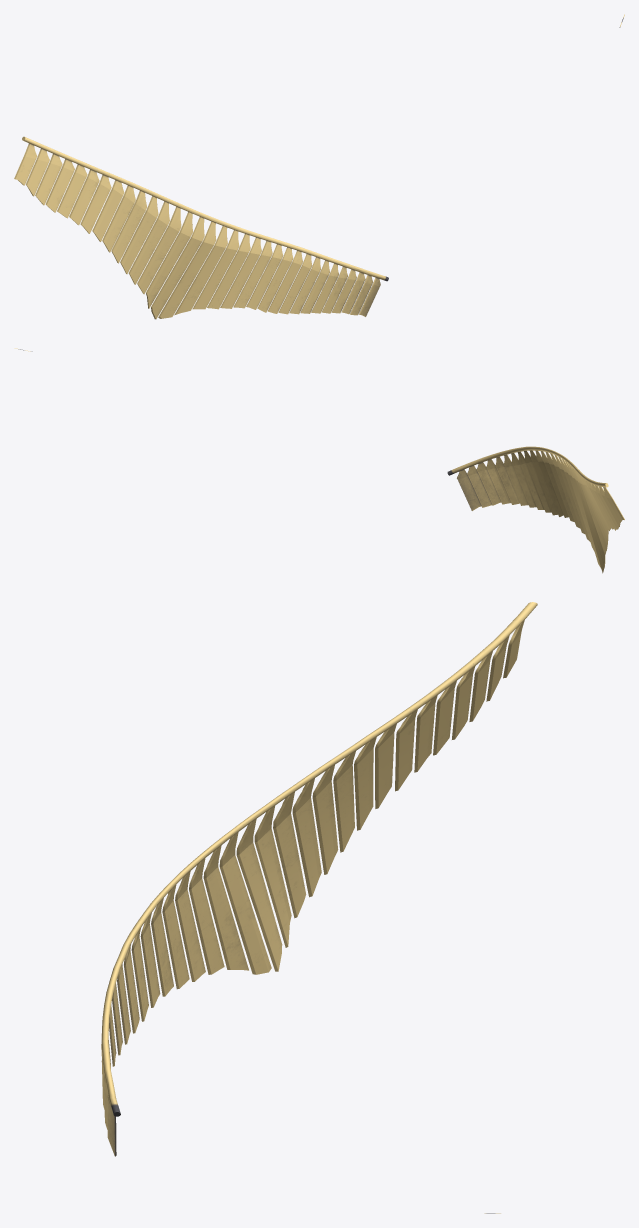
Rendered from snitchalaDerHarry.obj.
3 views of the same model, one above another, from view 1: azimuth 30°, elevation 25°; view 2: azimuth 150°, elevation 25°; view 3: azimuth 270°, elevation 25° (orthographic). The views are drawn at different scales.
Visible parts, largest first — view 1: polySurface1254; view 2: polySurface1254; view 3: polySurface1254.
Part boxes in pixels (x1,y1,x2,y2): polySurface1254: [14, 14, 624, 319]; polySurface1254: [14, 348, 624, 573]; polySurface1254: [101, 602, 537, 1213].
Bounding box in the file's own units: 7.25 × 1.85 × 2.26.
